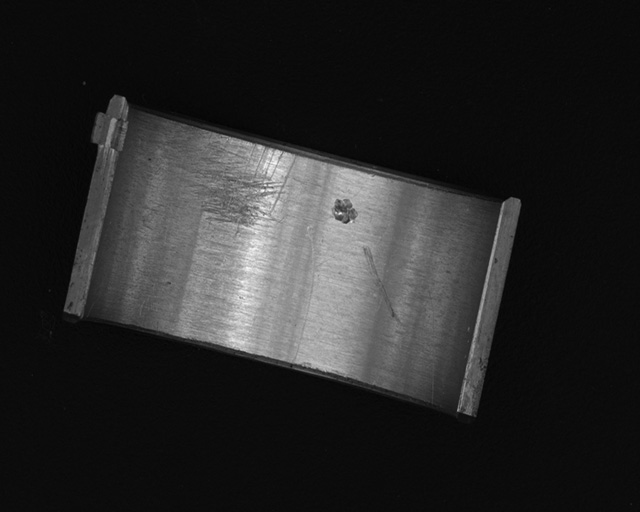bruise: (332, 199, 359, 224)
nick: (293, 227, 317, 365), (363, 246, 401, 325)
scratch: (171, 121, 299, 237)
